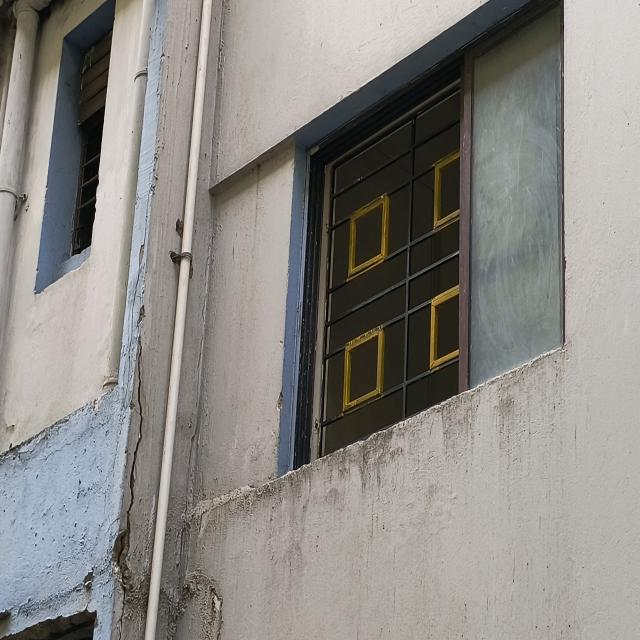Crack: (110, 330, 146, 640), (124, 185, 152, 405)
